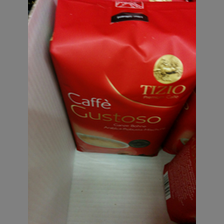coffee: (48, 1, 195, 157)
